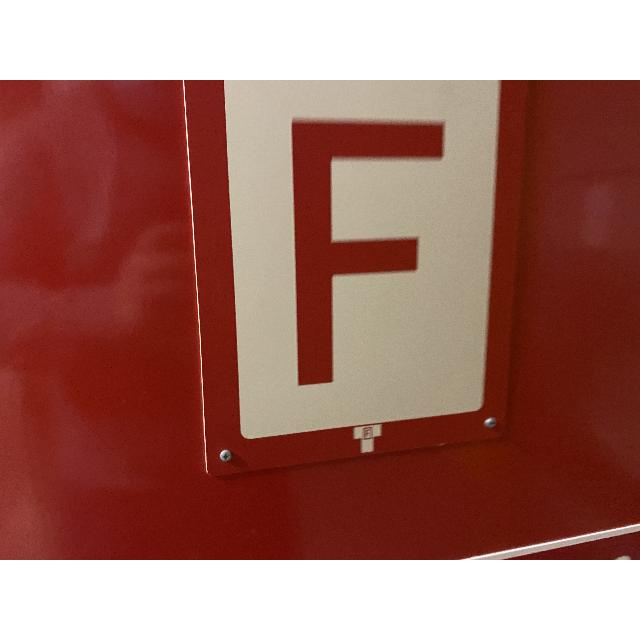fire extinguisher: (188, 80, 528, 474)
